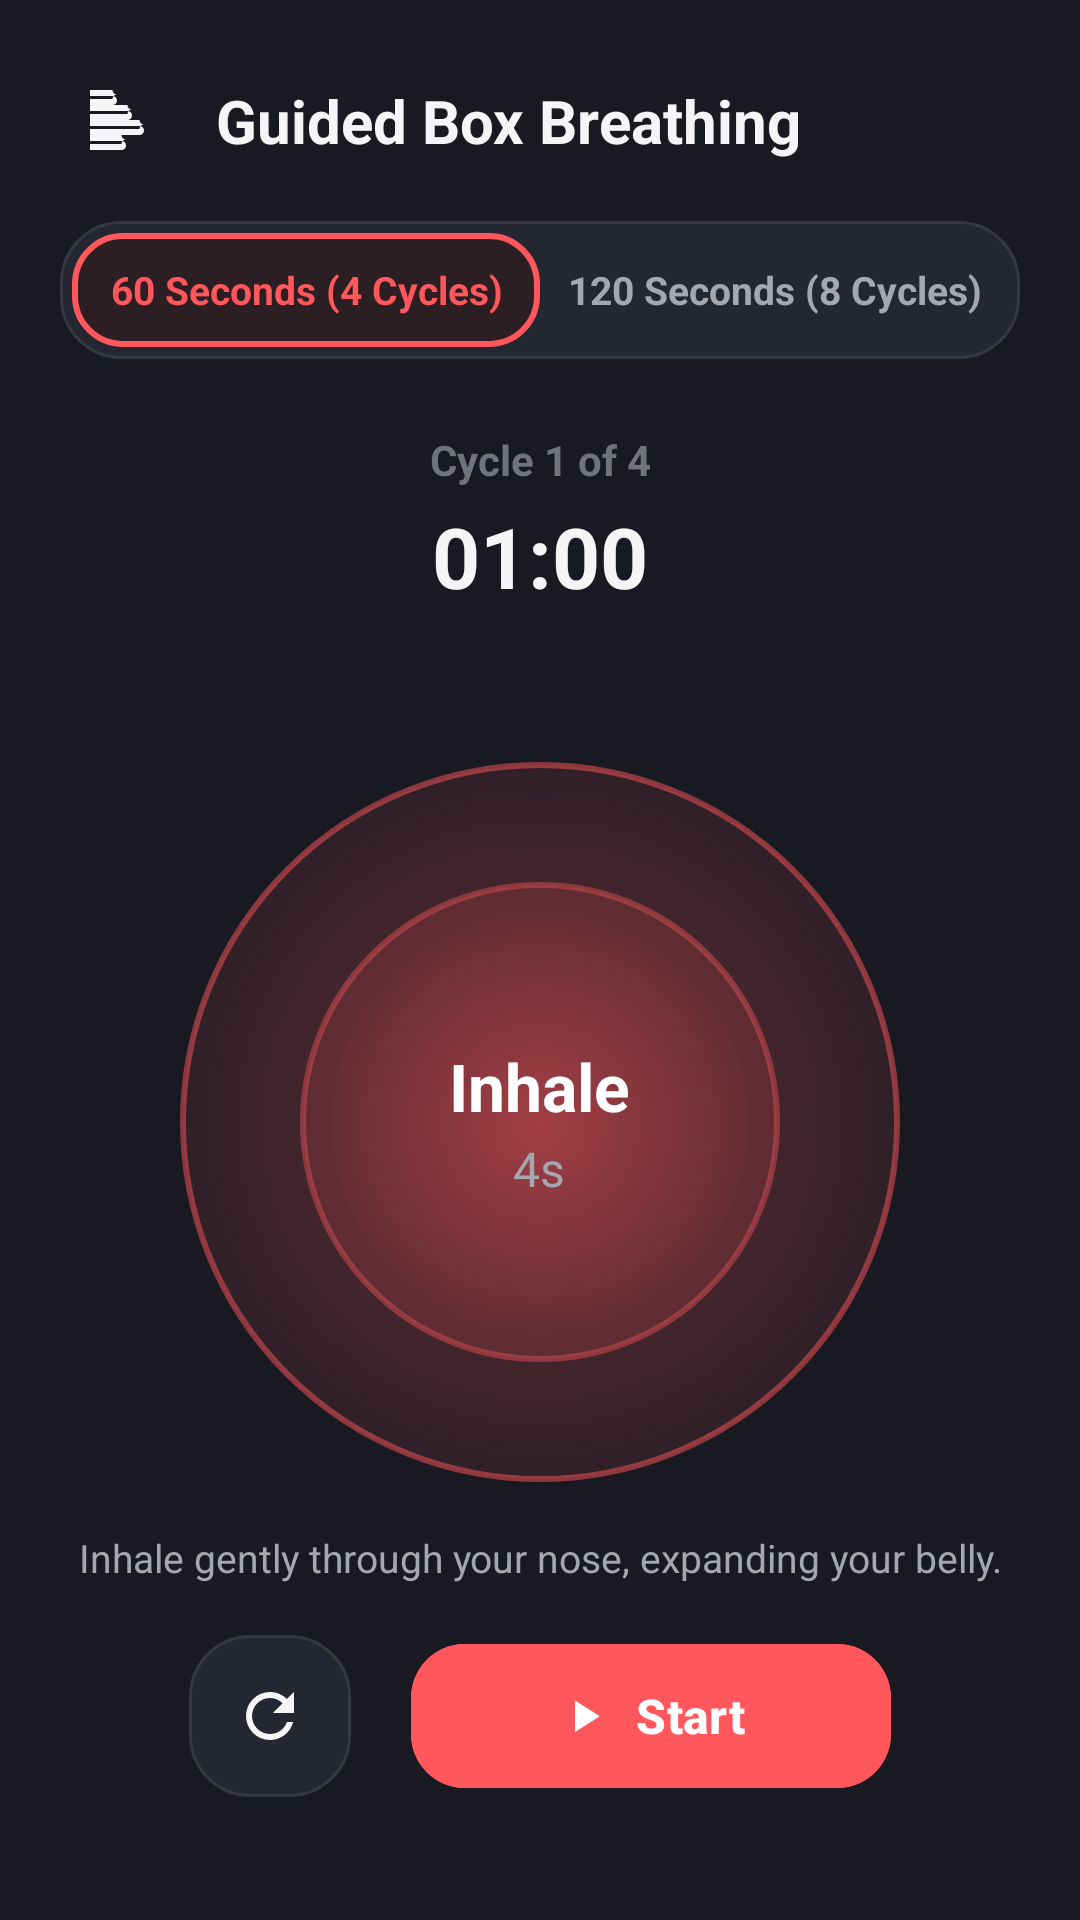

Point at icon controls on the screen. Image size 1080w x 1920h, points as [x,y].
refresh: [270,1716]
wind: [117,120]
